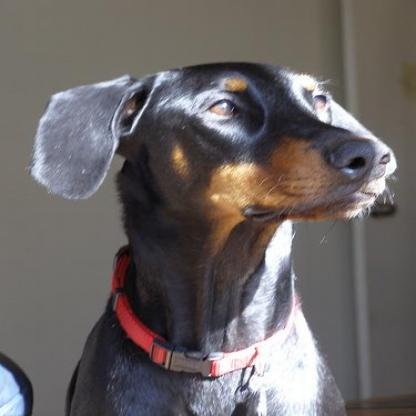Doberman: (22, 57, 400, 413)
